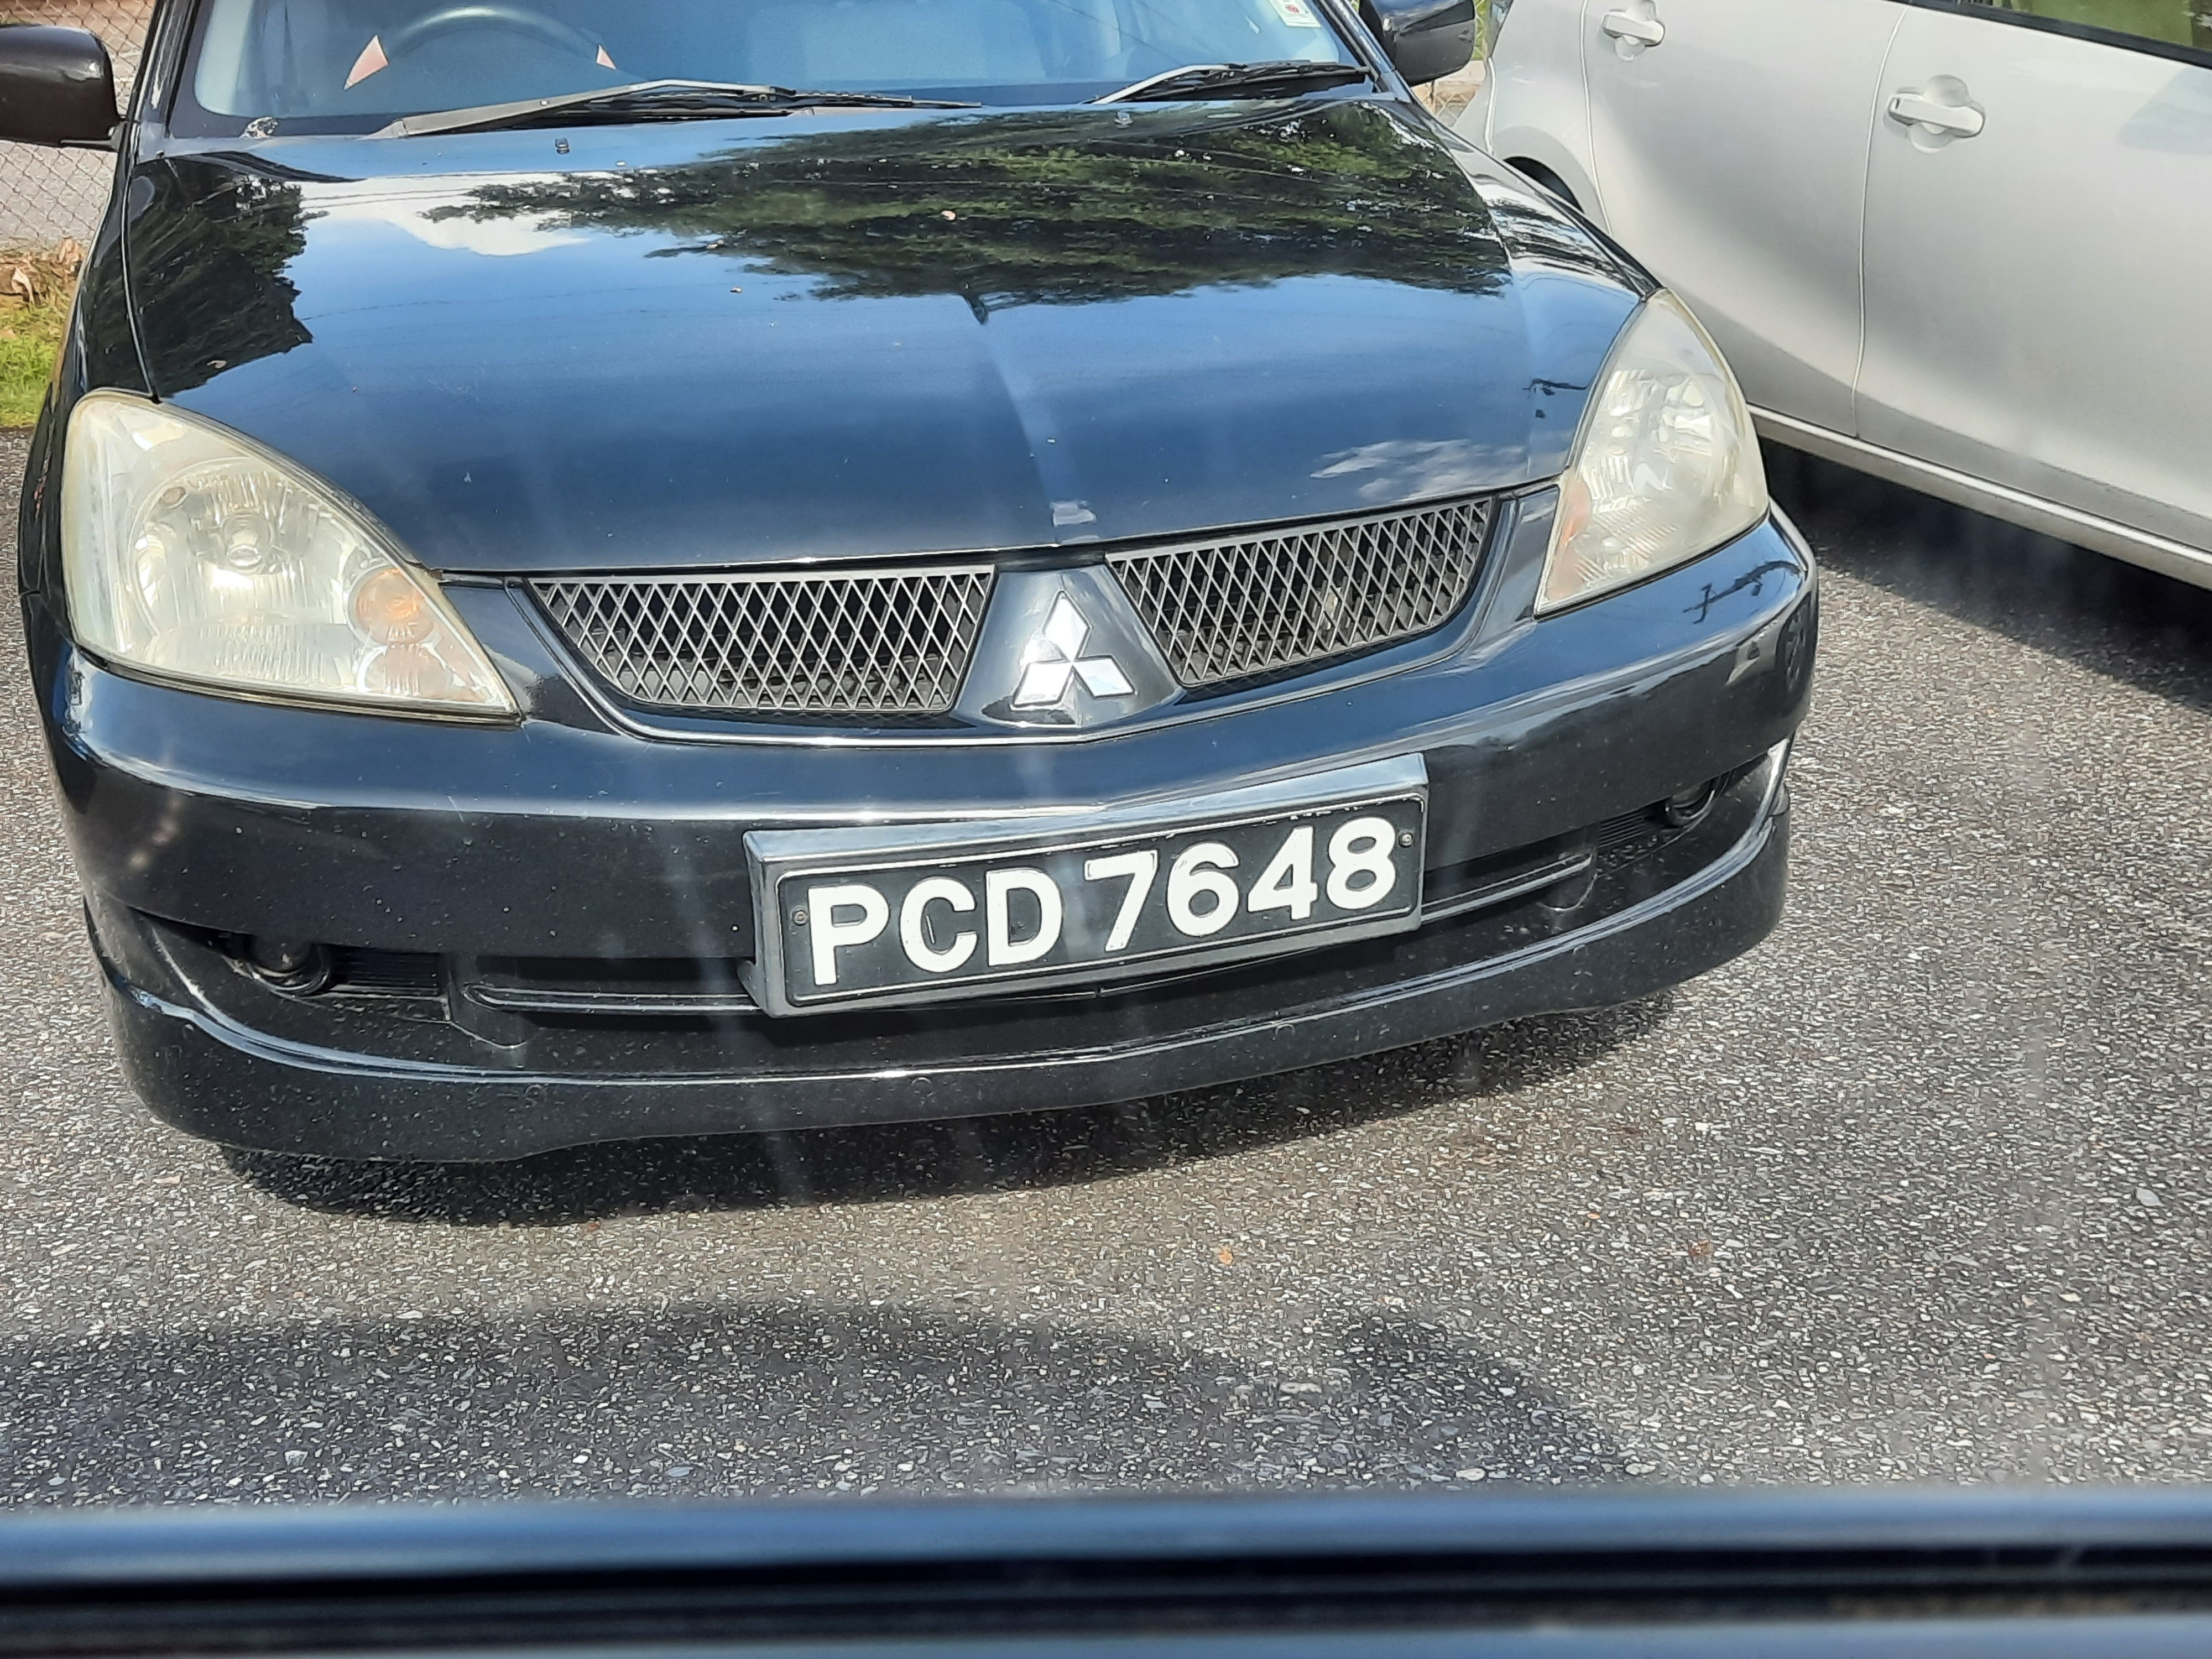License-Plate: (778, 875, 1411, 997)
